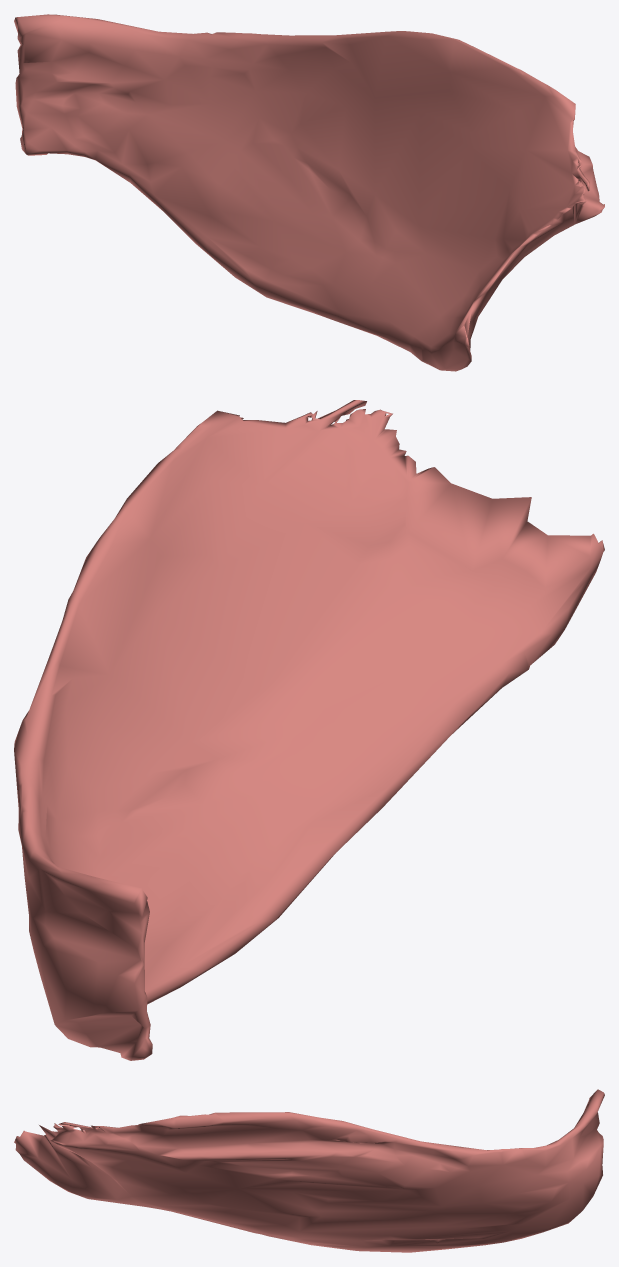
The picture shows the model from 3 angles, top to bottom: view 1: azimuth 30°, elevation 25°; view 2: azimuth 150°, elevation 25°; view 3: azimuth 270°, elevation 25°; orthographic projection. The views are drawn at different scales.
Parts seen in each view (by area): view 1: ZA_b2cc0737ed0fcc5a; view 2: ZA_b2cc0737ed0fcc5a; view 3: ZA_b2cc0737ed0fcc5a.
Part boxes in pixels (x1=…): ZA_b2cc0737ed0fcc5a: x1=14, y1=14, x2=604, y2=371; ZA_b2cc0737ed0fcc5a: x1=14, y1=400, x2=604, y2=1060; ZA_b2cc0737ed0fcc5a: x1=14, y1=1089, x2=604, y2=1252.
Bounding box in the file's own units: 0.0304 × 0.0302 × 0.0843.
